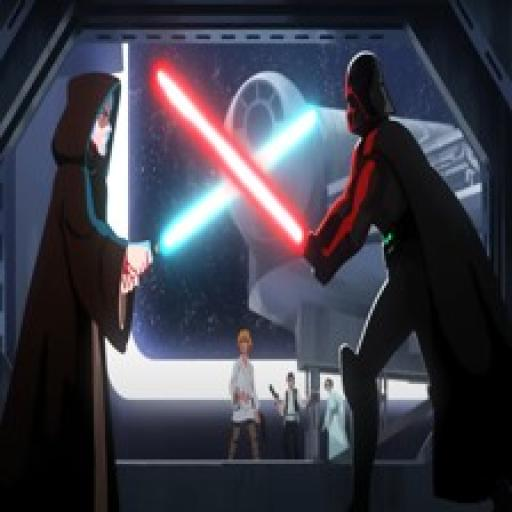human: (302, 50, 512, 506), (0, 56, 154, 512), (225, 326, 262, 474)
lightsaber: (125, 106, 319, 283)
sith saber: (152, 65, 331, 276)
